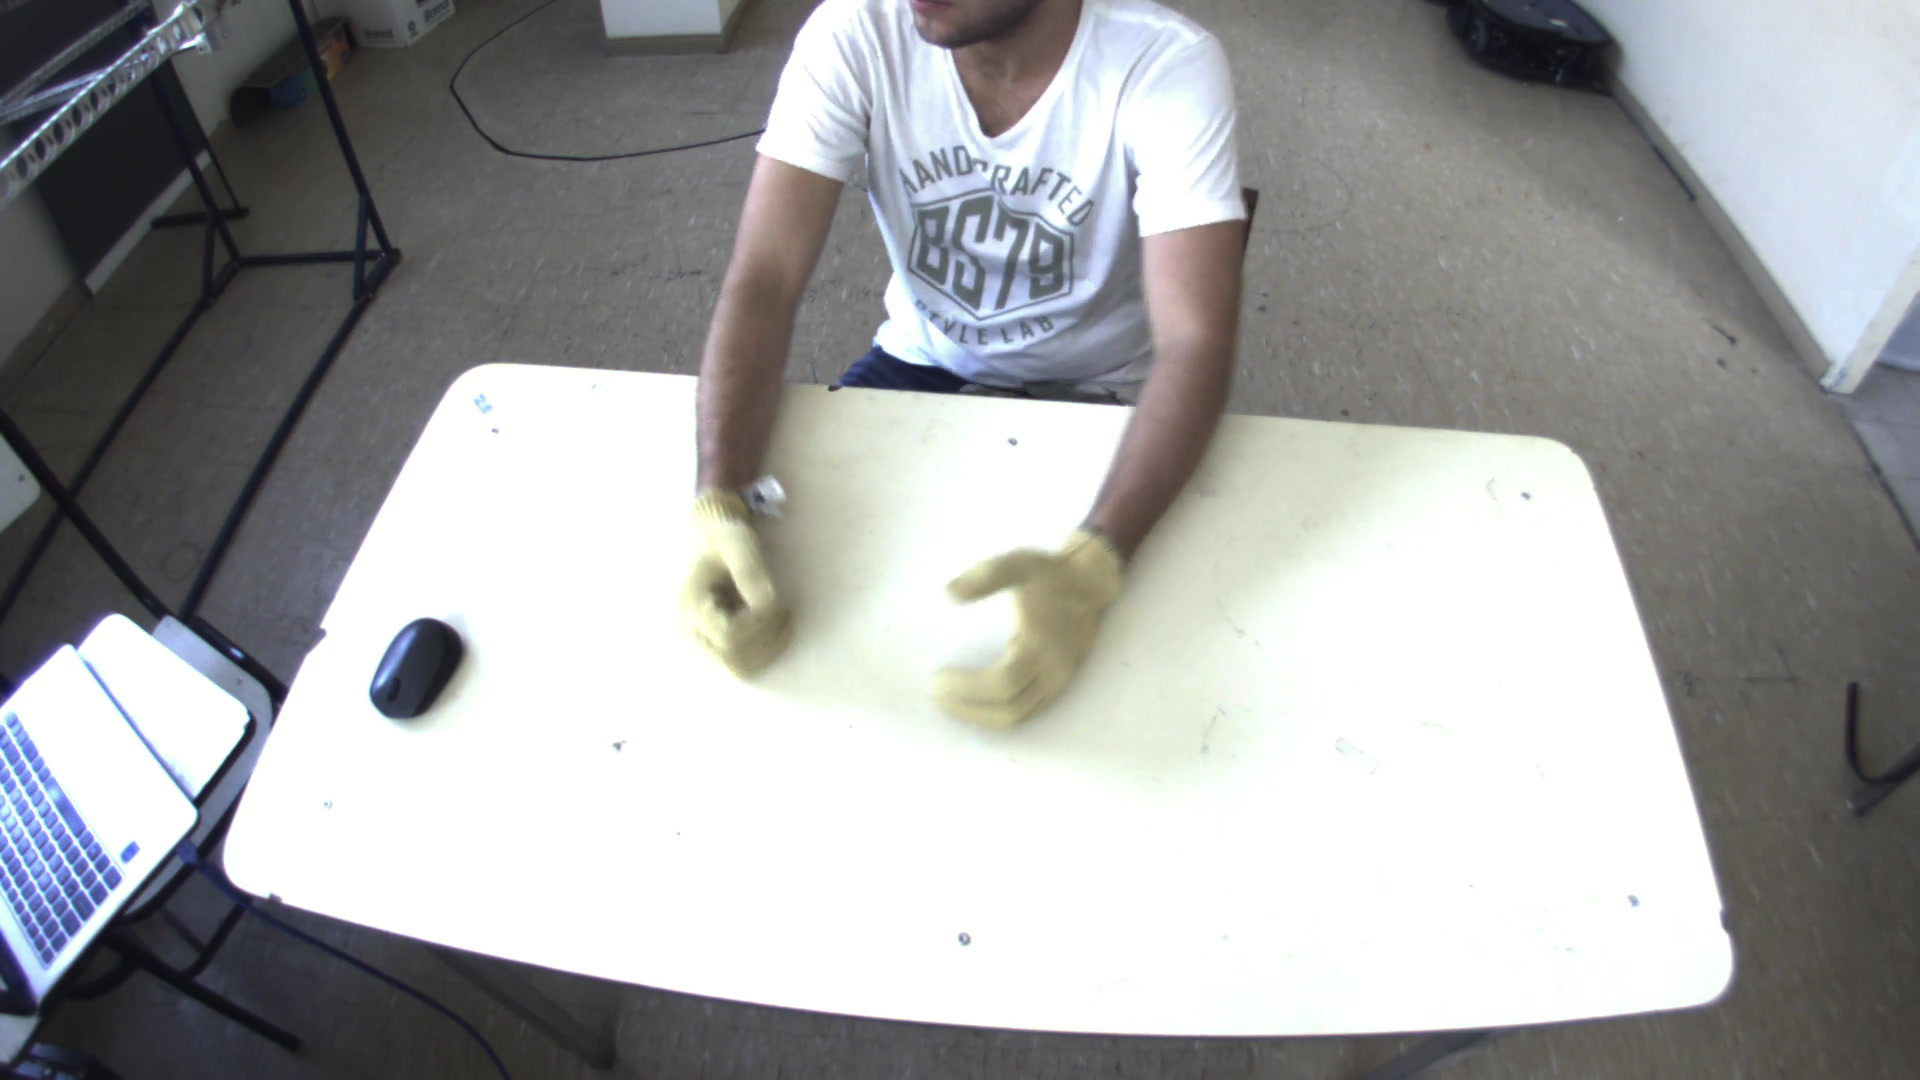hand: (922, 510, 1143, 742), (659, 475, 786, 684)
